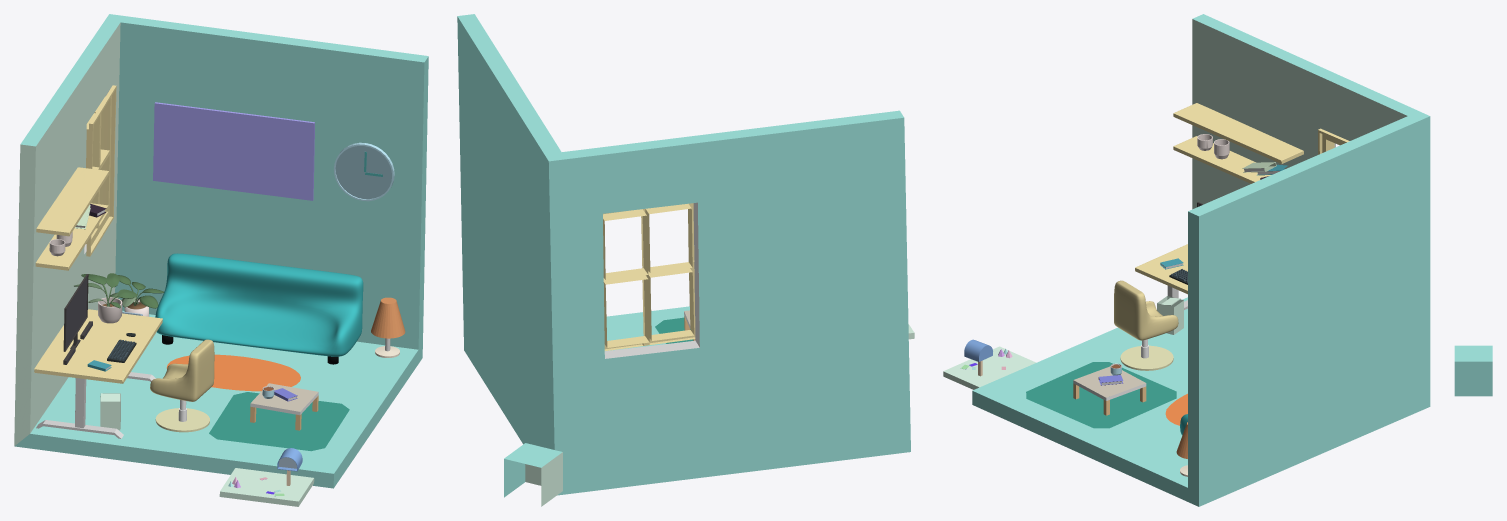
The model's file is finalroomV2.glb.
The picture shows the model from 3 angles, left to right: view 1: azimuth 30°, elevation 25°; view 2: azimuth 150°, elevation 25°; view 3: azimuth 270°, elevation 25°; orthographic projection. The views are drawn at different scales.
Visible parts, largest first — view 1: body, sofa, selves, flooritems, Desks, clock, minifloor, chair, tabletops, Computer, mailbox; view 2: body, Cube; view 3: body, flooritems, selves, chair, sofa, Cube, minifloor, Desks.
Part boxes in pixels (<box>): body: <box>14,14,428,488</box>; sofa: <box>110,253,405,430</box>; selves: <box>35,102,315,270</box>; flooritems: <box>100,354,349,451</box>; Desks: <box>34,309,162,438</box>; clock: <box>333,142,394,201</box>; minifloor: <box>219,468,314,506</box>; chair: <box>150,339,214,401</box>; tabletops: <box>63,273,136,371</box>; Computer: <box>63,274,88,351</box>; mailbox: <box>277,448,302,485</box>; body: <box>457,14,910,495</box>; Cube: <box>504,443,562,506</box>; body: <box>972,14,1430,506</box>; flooritems: <box>1026,296,1187,428</box>; selves: <box>1173,103,1303,183</box>; chair: <box>1114,280,1178,340</box>; sofa: <box>1073,363,1187,476</box>; Cube: <box>1454,345,1492,396</box>; minifloor: <box>943,346,1035,389</box>; Desks: <box>1135,244,1187,309</box>.
Bounding box in the file's own units: 10.74 × 7.71 × 12.7.
